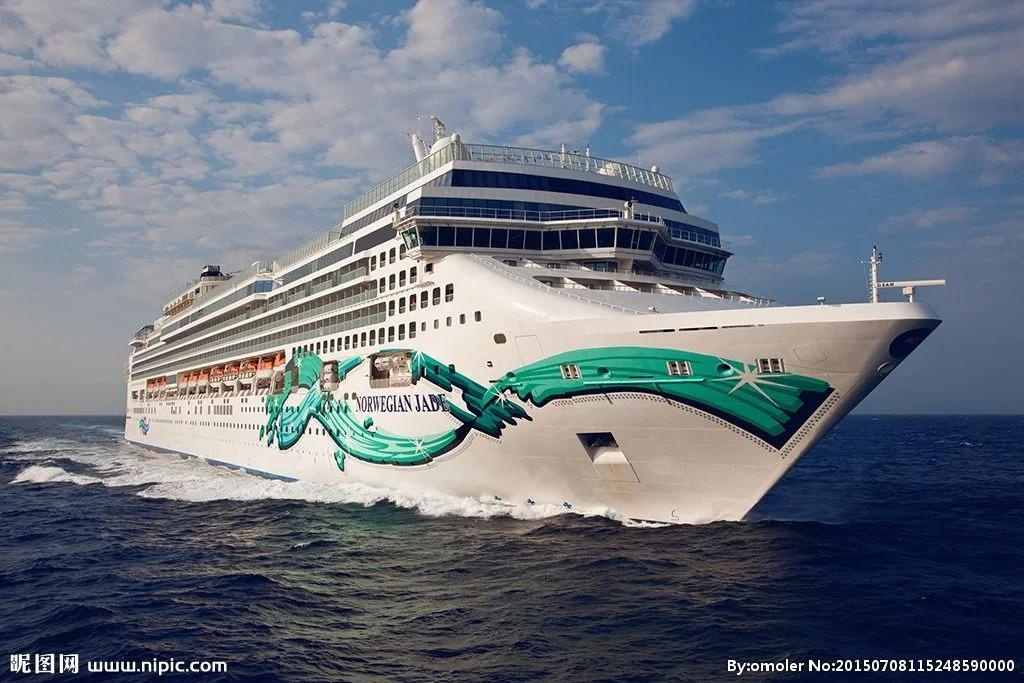youlun: (117, 118, 953, 519)
